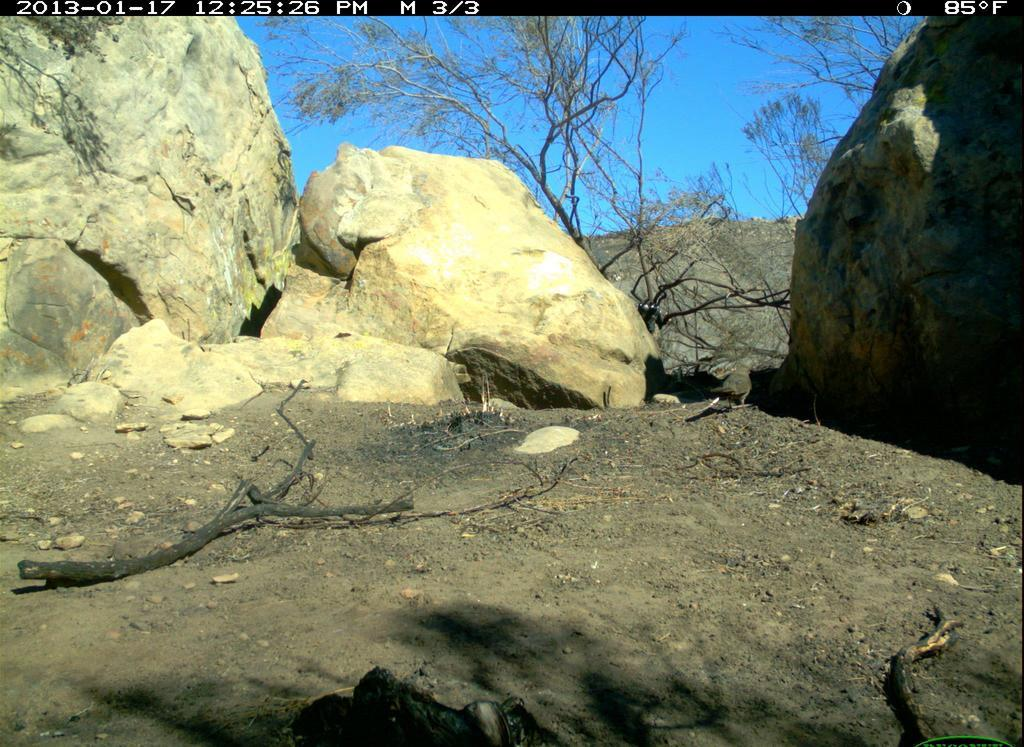bird: (708, 361, 759, 413)
